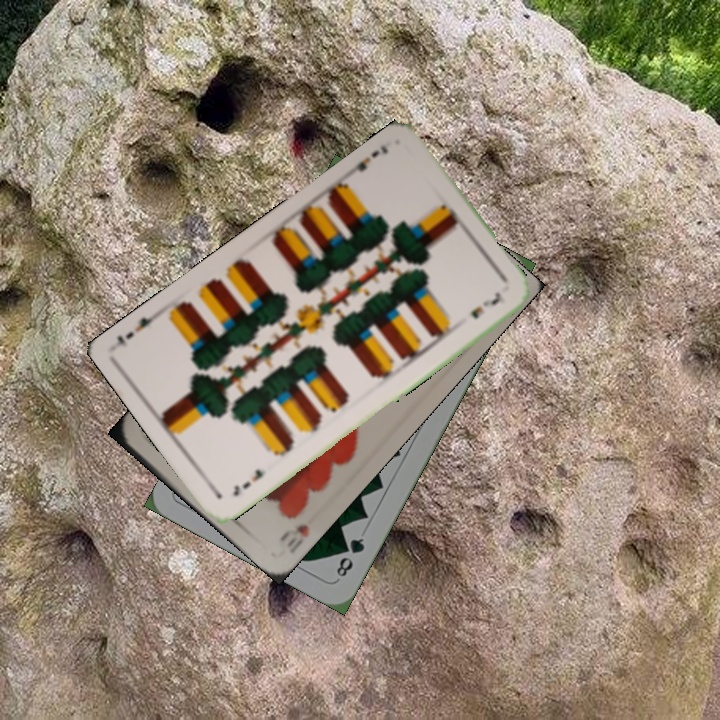E7: (344, 141, 391, 178), (228, 465, 267, 500)
G8: (332, 533, 367, 580)
H10: (275, 520, 312, 556)
